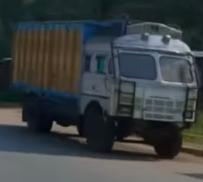Truck: (8, 15, 199, 159)
